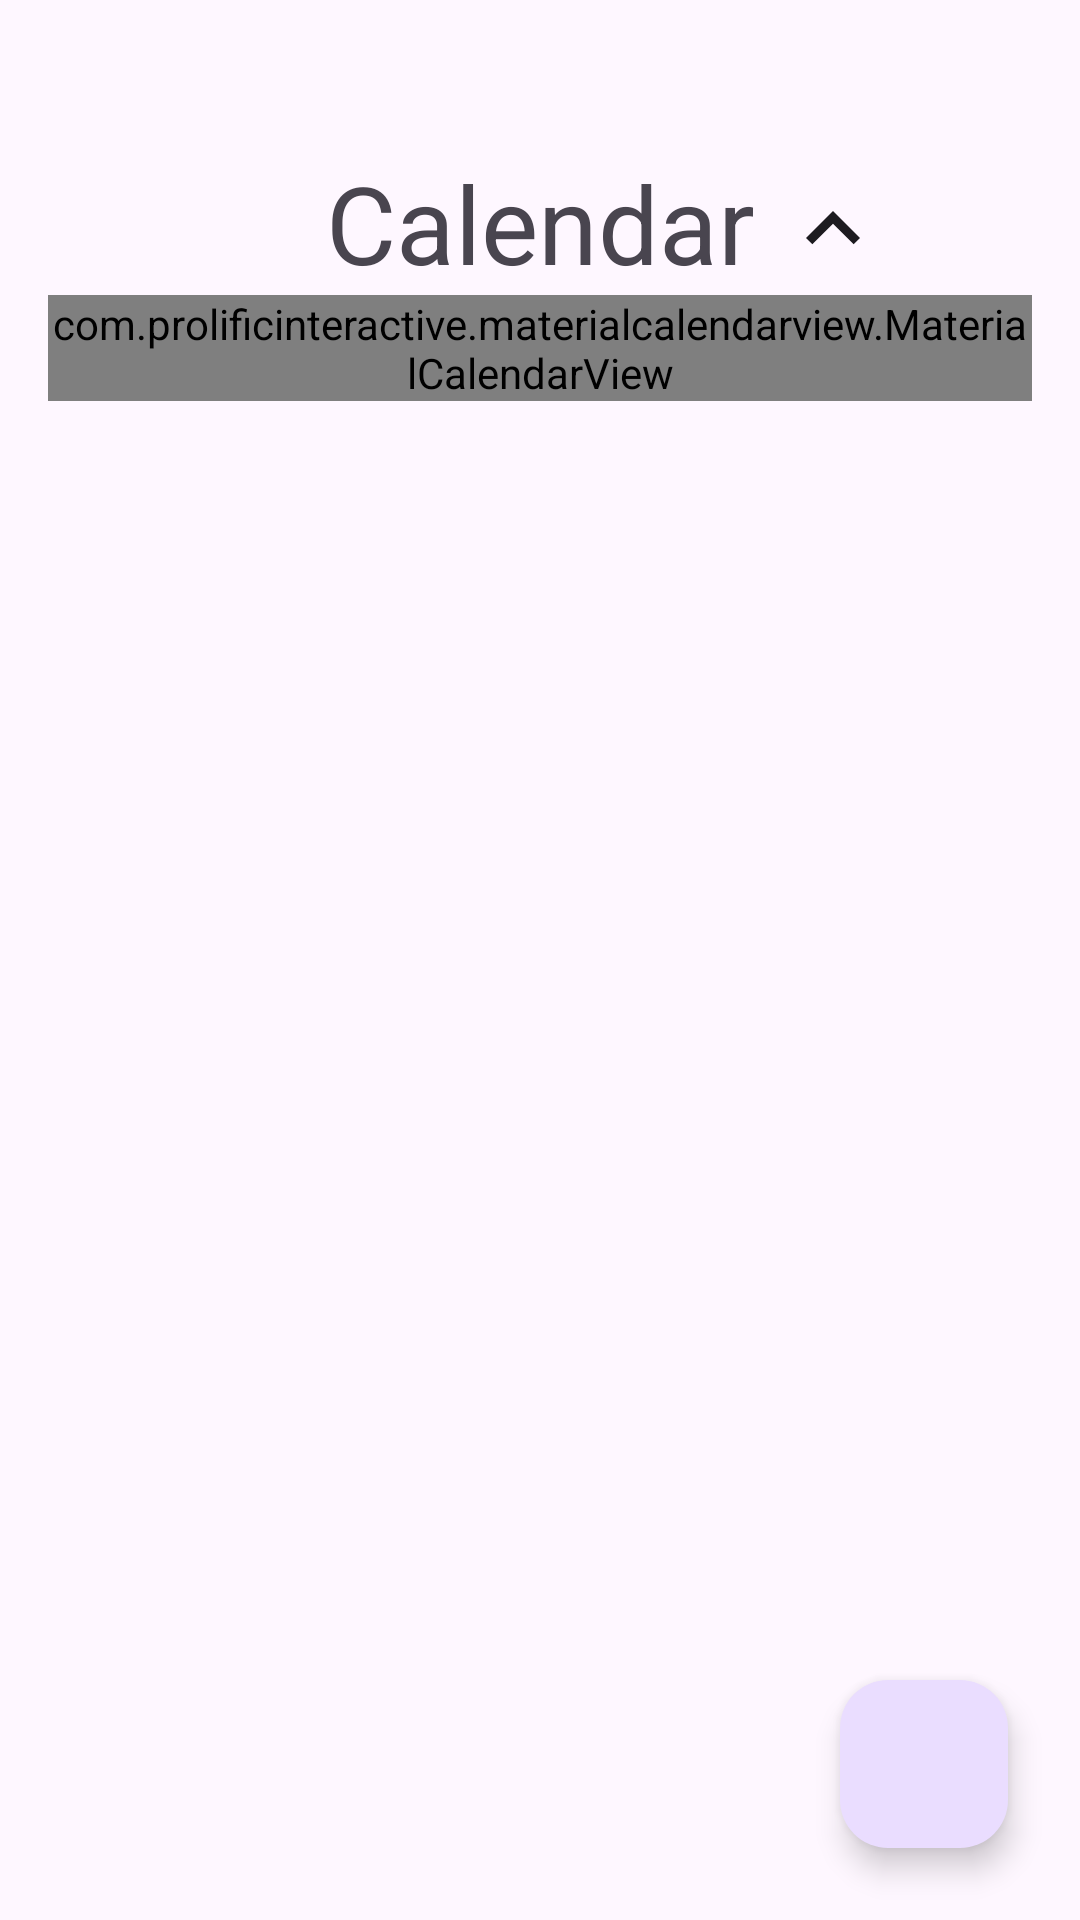

Icon bounding boxes for this 1080x1920 phone screenshot, format bbox=[x1, y1, x2, y2]:
expand less: bbox=[806, 211, 860, 244]
